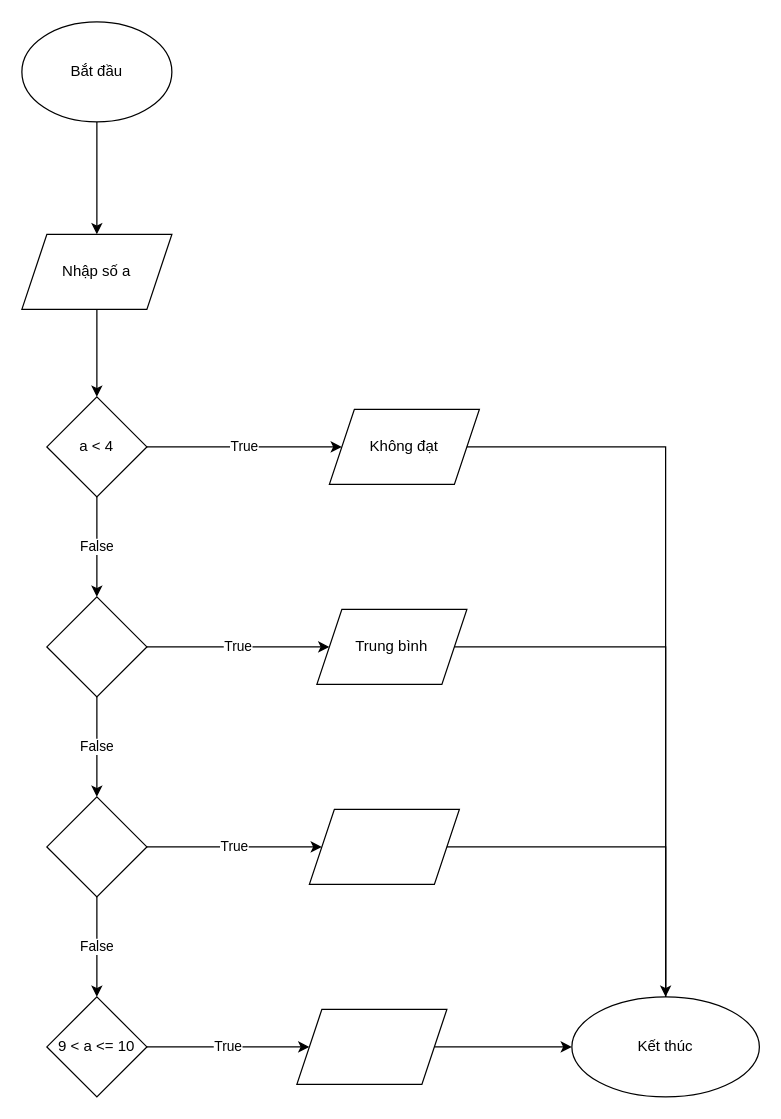
Some shapes in this 781 by 1119 pixel diagram are drawn without their labels. The shapes that lost their labels are listed below. From the top down, each one's centre as x and y in pixels, then its label:
At point 96,646: "4 <= a <= 6".
At point 96,846: "6 < a <=8".
At point 383,846: "Khá".
At point 371,1046: "Xuất sắc".
